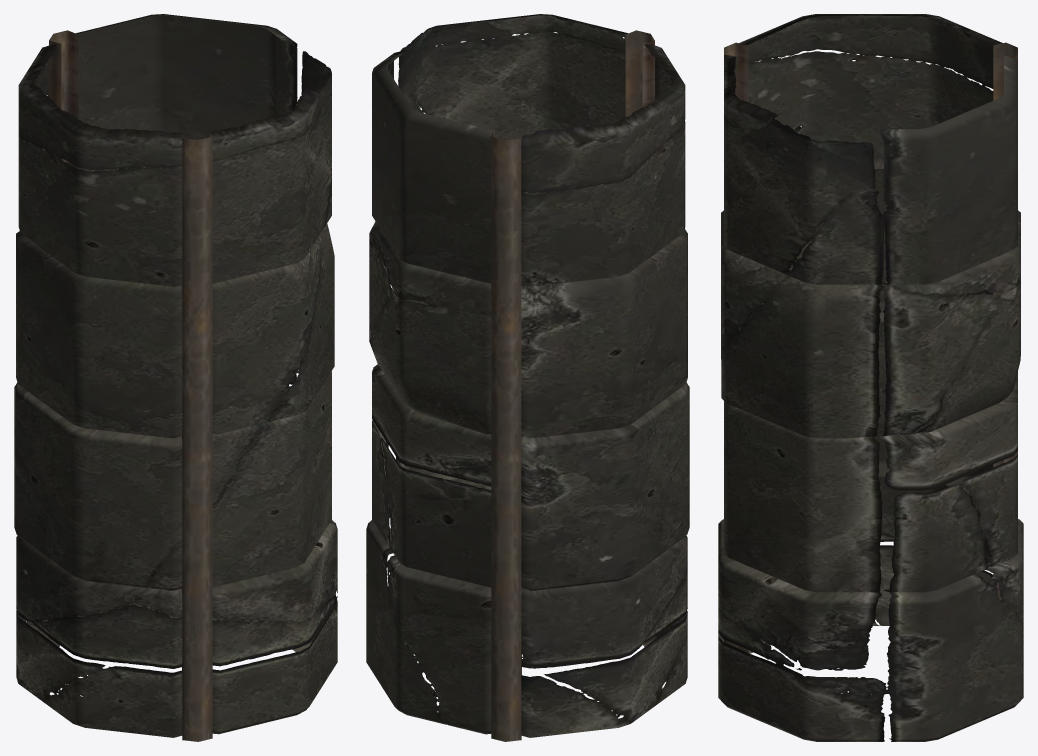
3 views of the same model, side by side, from view 1: azimuth 30°, elevation 25°; view 2: azimuth 150°, elevation 25°; view 3: azimuth 270°, elevation 25° (orthographic).
Parts seen in each view (by area): view 1: SM_Greathall_Corner_02B_LOD0; view 2: SM_Greathall_Corner_02B_LOD0; view 3: SM_Greathall_Corner_02B_LOD0.
Boxes of the visible parts, x1,y1,x2,y2 form: SM_Greathall_Corner_02B_LOD0: (14, 14, 337, 741); SM_Greathall_Corner_02B_LOD0: (366, 14, 689, 741); SM_Greathall_Corner_02B_LOD0: (718, 14, 1023, 741).
Size of the model in its own units: 2.3 by 5 by 2.27.
2 materials, 2 textured.
